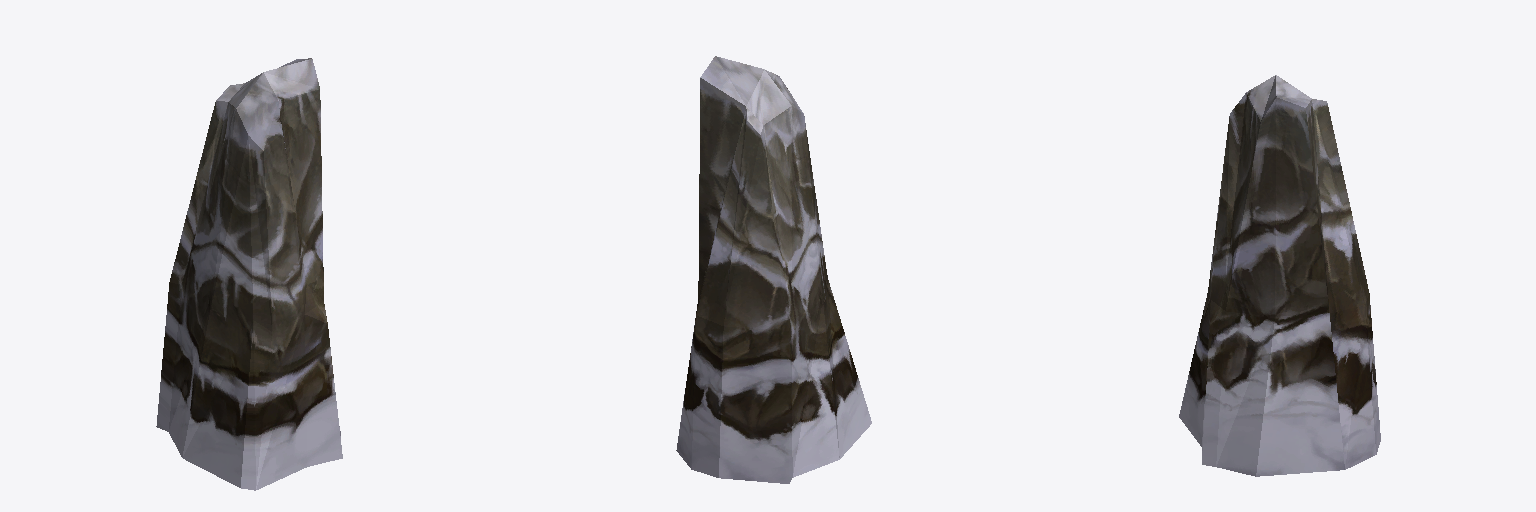
3 views of the same model, side by side, from view 1: azimuth 30°, elevation 25°; view 2: azimuth 150°, elevation 25°; view 3: azimuth 270°, elevation 25° (orthographic).
Parts seen in each view (by area): view 1: borean_rocklarge_04_snowy; view 2: borean_rocklarge_04_snowy; view 3: borean_rocklarge_04_snowy.
Boxes of the visible parts, <box> form: borean_rocklarge_04_snowy: <box>156,58,342,490</box>; borean_rocklarge_04_snowy: <box>676,56,871,483</box>; borean_rocklarge_04_snowy: <box>1179,75,1380,476</box>.
Bounding box in the file's own units: 4.58 × 11.14 × 5.5.
Materials: 1 (1 with a texture image).